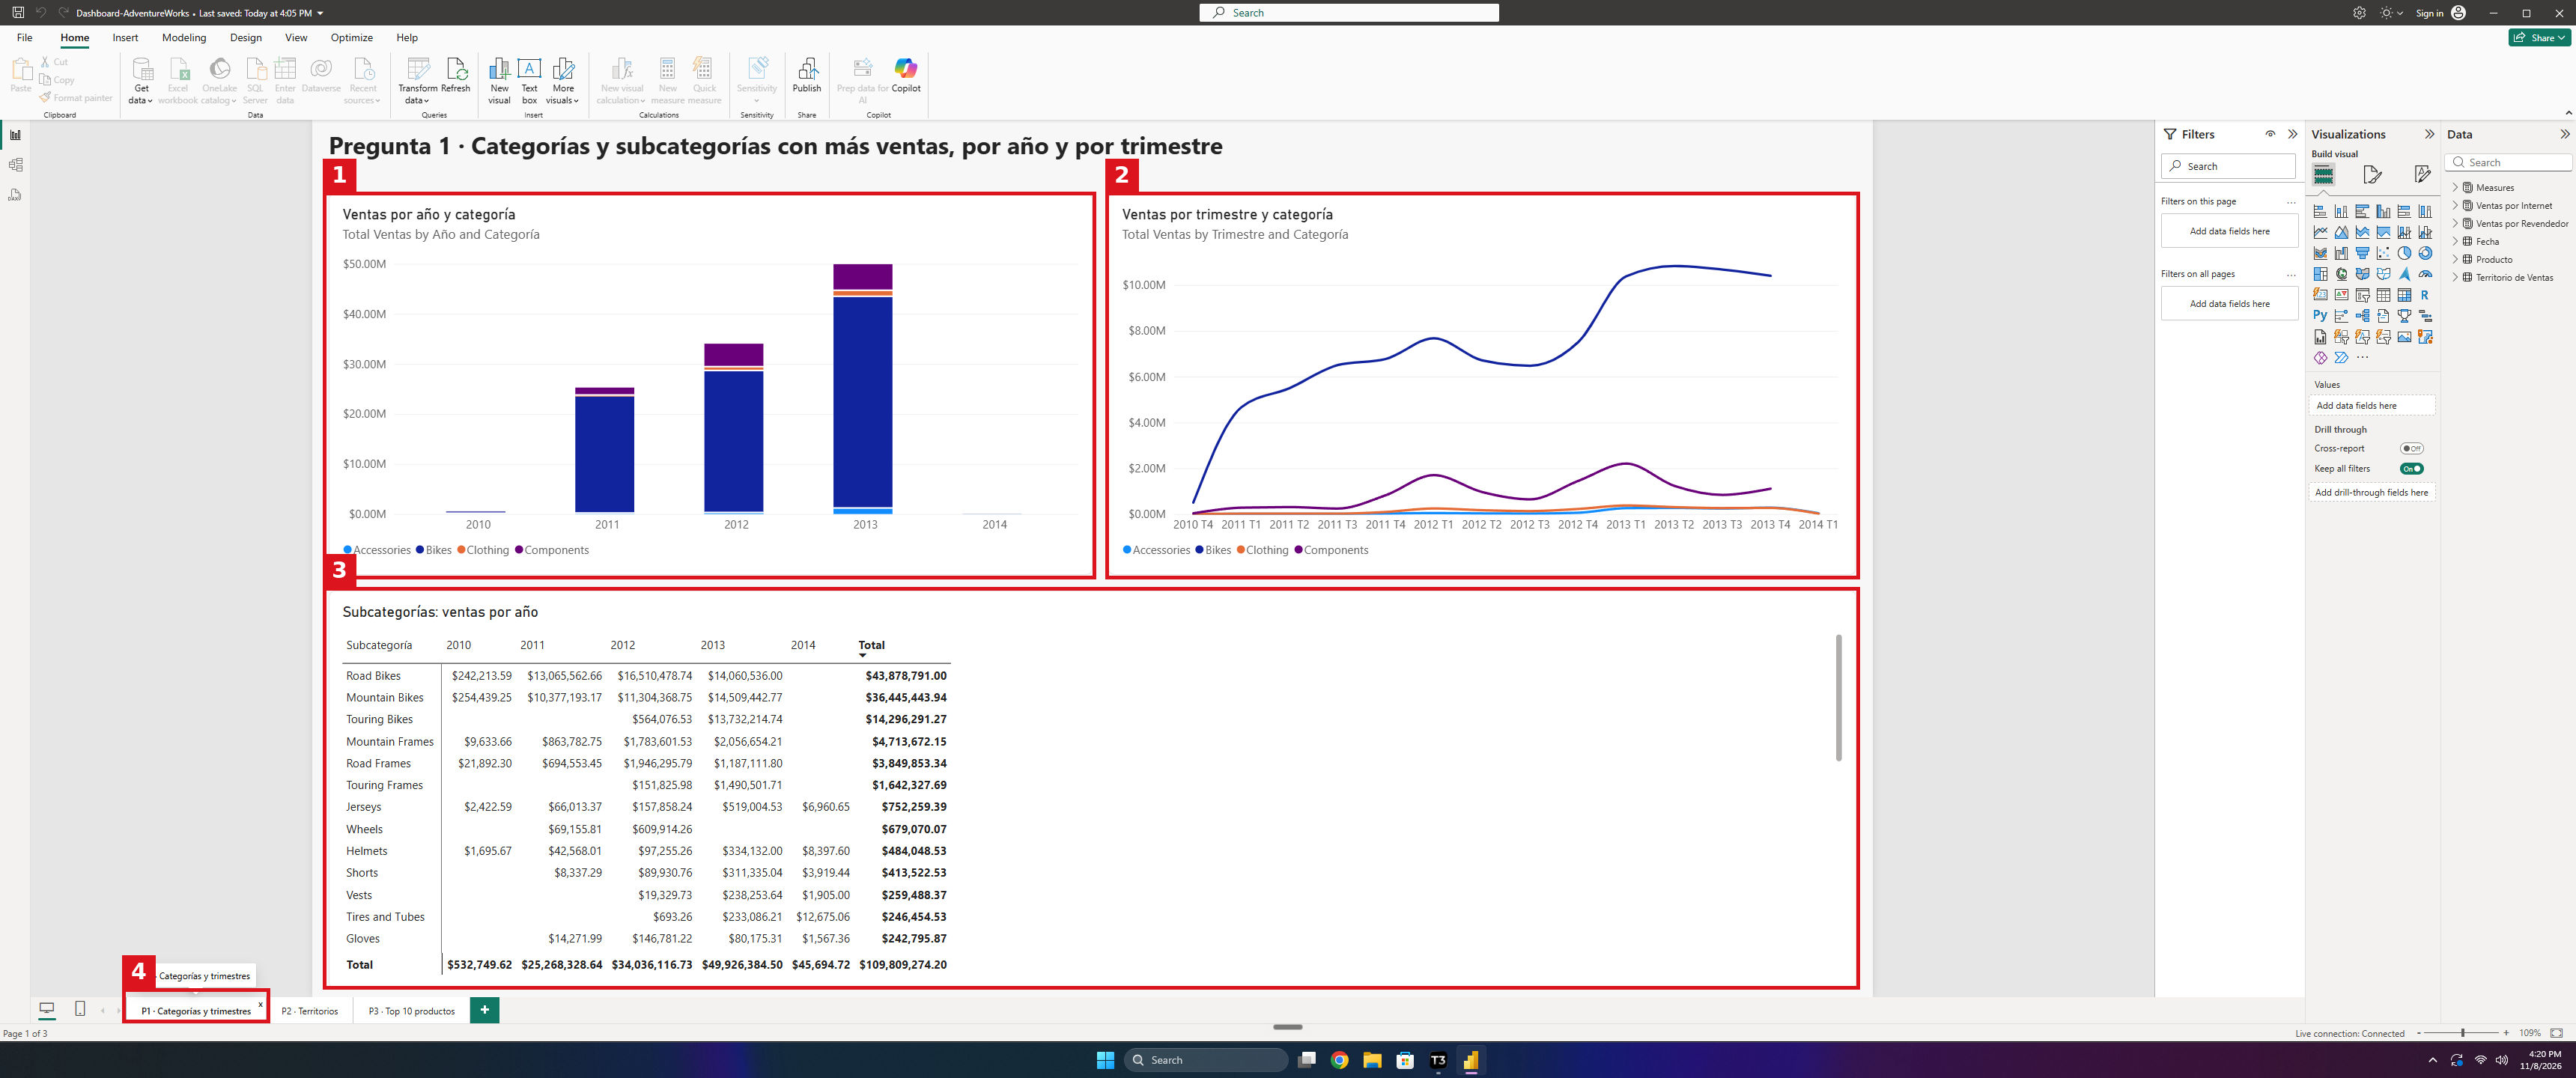

Layout of this report page (visuals, bound fields, positions):
{"tool":"powerbi","page":{"name":"P1 · Categorías y trimestres","canvas":[1920,1080],"ordinal":0},"visuals":[{"type":"textbox","box":[20,10,1880,70],"z":0},{"type":"columnChart","title":"Ventas por año y categoría","fields":{"Category":["Fecha.Año"],"Series":["Producto.Categoría"],"Y":["Measures.Total Ventas"]},"box":[20,90,940,470],"z":1},{"type":"lineChart","title":"Ventas por trimestre y categoría","fields":{"Category":["Fecha.Trimestre"],"Series":["Producto.Categoría"],"Y":["Measures.Total Ventas"]},"box":[980,90,920,470],"z":2},{"type":"pivotTable","title":"Subcategorías: ventas por año","fields":{"Rows":["Producto.Subcategoría"],"Columns":["Fecha.Año"],"Values":["Measures.Total Ventas"]},"box":[20,580,1880,490],"z":3}]}

Visuals, with their boxes on the page's 1920x1080 design canvas (x1, y1, x2, y2). These are canvas units, not pixel positions in the 2576x1078 screenshot, which may show the page scaled, cropped or inside an application window:
textbox: <box>20,10,1900,80</box>
"Ventas por año y categoría" columnChart: <box>20,90,960,560</box>
"Ventas por trimestre y categoría" lineChart: <box>980,90,1900,560</box>
"Subcategorías: ventas por año" pivotTable: <box>20,580,1900,1070</box>
